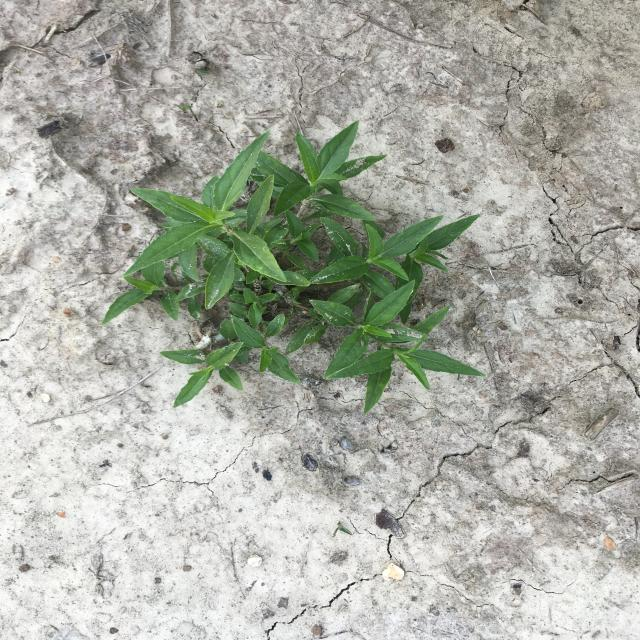Eclipta: (101, 120, 486, 413)
